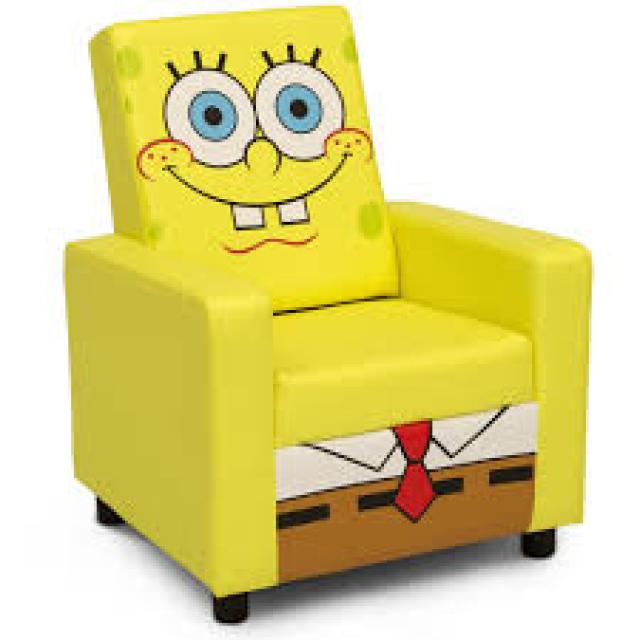chair: (19, 0, 617, 640)
